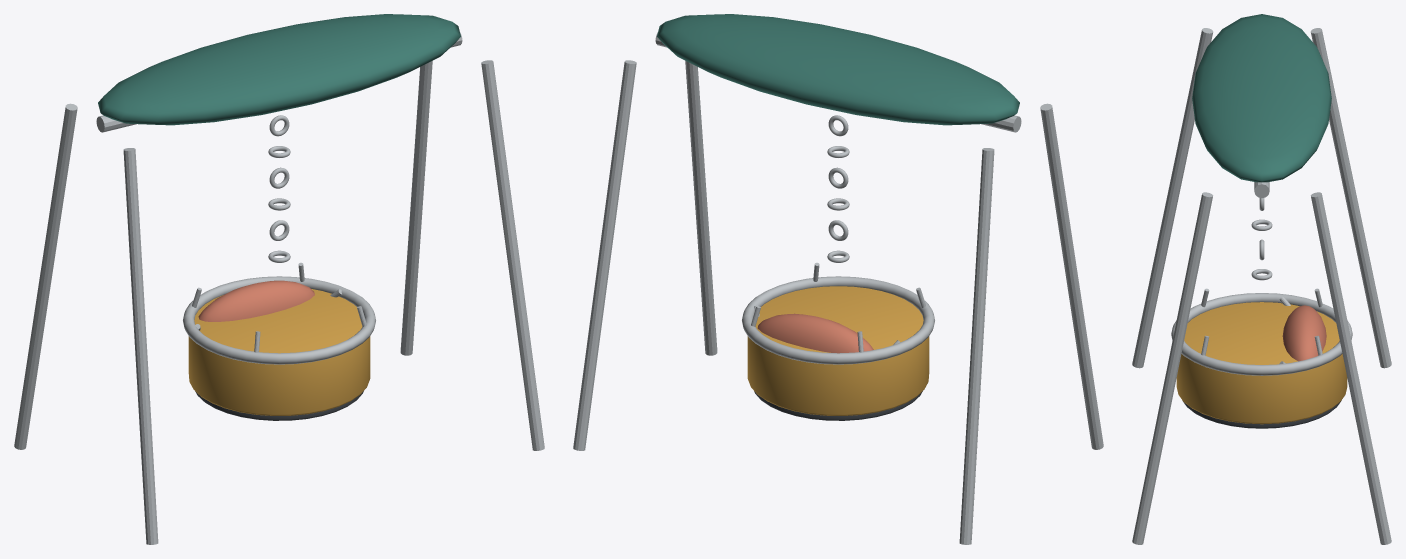
The model's file is outdoor_swing_c.glb.
3 views of the same model, side by side, from view 1: azimuth 30°, elevation 25°; view 2: azimuth 150°, elevation 25°; view 3: azimuth 270°, elevation 25° (orthographic). The views are drawn at different scales.
Visible parts, largest first — view 1: Frame canopy, Basket body, Frame upright.006, Frame upright.004, Frame upright.005, Basket rim, Frame upright.007, Tint, Basket floor; view 2: Frame canopy, Basket body, Frame upright.007, Frame upright.005, Basket rim, Frame upright.004, Frame upright.006, Tint, Basket floor; view 3: Frame canopy, Basket body, Frame upright.006, Frame upright.007, Frame upright.004, Frame upright.005, Basket rim, Tint, Basket floor.
Part boxes in pixels (box(x1,y1,x2,y2)): Frame canopy: box(98, 14, 460, 125); Basket body: box(188, 289, 370, 415); Frame upright.006: box(481, 60, 544, 450); Frame upright.004: box(123, 148, 158, 544); Frame upright.005: box(14, 103, 77, 449); Basket rim: box(183, 276, 375, 364); Frame upright.007: box(400, 61, 432, 355); Tint: box(198, 280, 314, 321); Basket floor: box(195, 391, 363, 420); Frame canopy: box(657, 14, 1019, 125); Basket body: box(747, 286, 929, 415); Frame upright.007: box(573, 60, 636, 450); Frame upright.005: box(959, 148, 994, 544); Basket rim: box(742, 276, 934, 364); Frame upright.004: box(1040, 103, 1103, 449); Frame upright.006: box(685, 61, 717, 355); Tint: box(757, 313, 873, 353); Basket floor: box(754, 391, 922, 420); Frame canopy: box(1192, 14, 1331, 182); Basket body: box(1176, 302, 1347, 424); Frame upright.006: box(1132, 192, 1213, 544); Frame upright.007: box(1310, 192, 1391, 544); Frame upright.004: box(1132, 28, 1213, 368); Frame upright.005: box(1310, 28, 1391, 368); Basket rim: box(1171, 293, 1352, 375); Tint: box(1282, 305, 1326, 361); Basket floor: box(1182, 400, 1341, 428).
Size of the model in its own units: 2.22 by 2.15 by 1.34.
